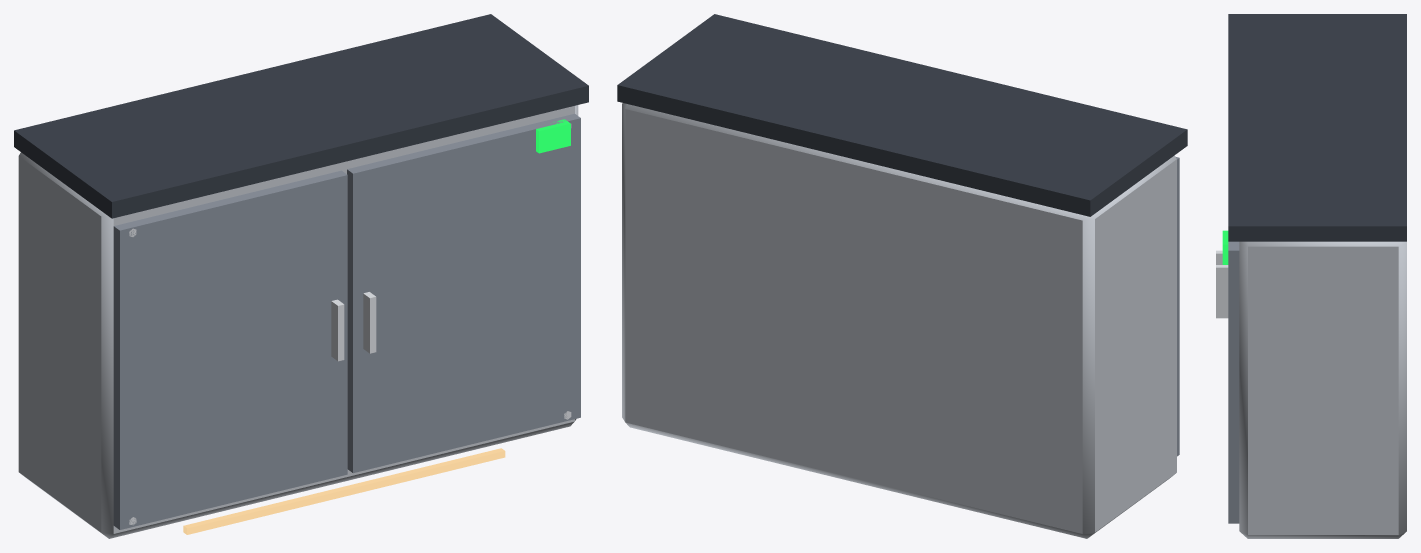
File: locker_wall_cabinet.glb
3 renders of one model, left to right at view 1: azimuth 30°, elevation 25°; view 2: azimuth 150°, elevation 25°; view 3: azimuth 270°, elevation 25°, orthographic. The views are drawn at different scales.
Visible parts, largest first — view 1: locker_wall_cabinet; view 2: locker_wall_cabinet; view 3: locker_wall_cabinet.
Boxes of the visible parts, <box> form: locker_wall_cabinet: <box>14,14,588,538</box>; locker_wall_cabinet: <box>617,14,1187,538</box>; locker_wall_cabinet: <box>1216,14,1406,538</box>.
Bounding box in the file's own units: 0.9 × 0.641 × 0.342.
